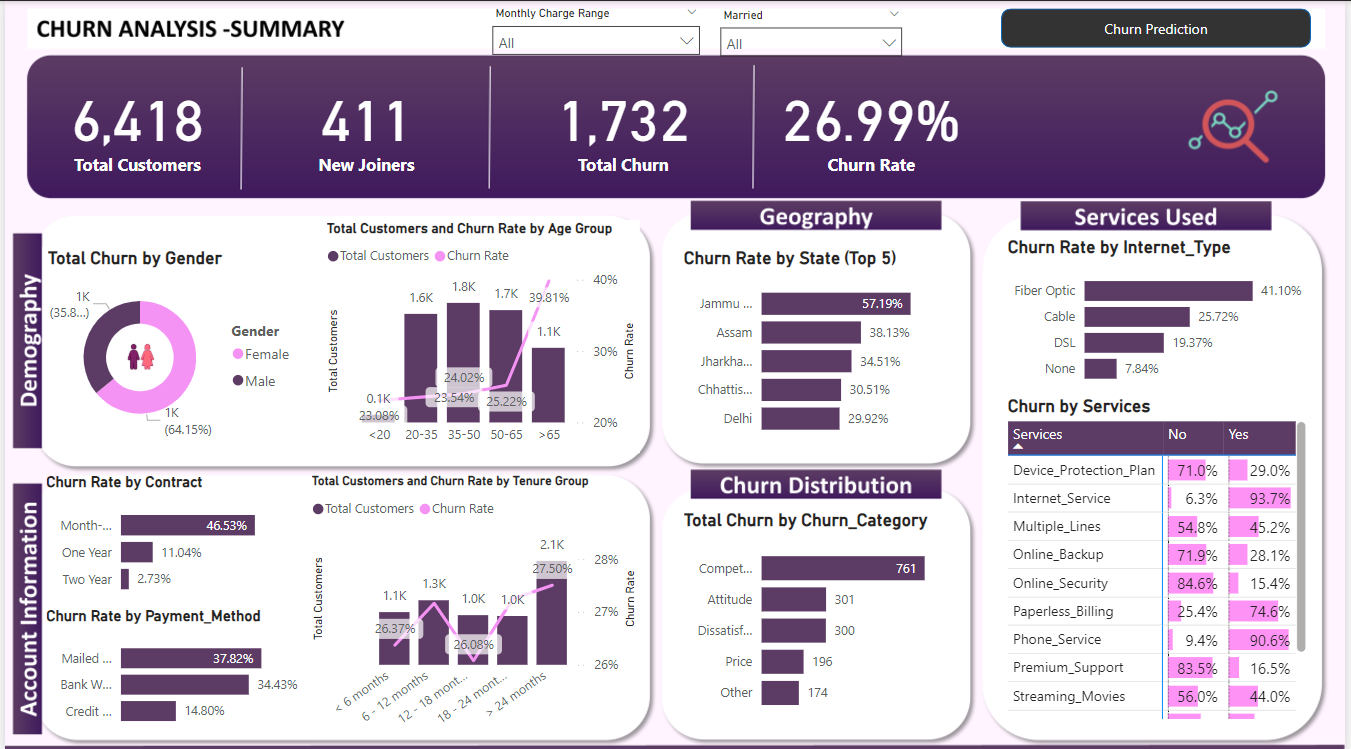

Layout of this report page (visuals, bound fields, positions):
{"tool":"powerbi","page":{"name":"Summary","canvas":[1280,720],"ordinal":0},"visuals":[{"type":"card","fields":{"Values":["#Measures.Total Customers"]},"box":[34,60.5,183.3,115.3],"z":0},{"type":"card","fields":{"Values":["#Measures.Total Churn"]},"box":[481.9,60.5,217.3,115.3],"z":1000},{"type":"card","fields":{"Values":["#Measures.New Joiners"]},"box":[243.8,60.5,202.2,115.3],"z":2000},{"type":"card","fields":{"Values":["#Measures.Churn Rate"]},"box":[721.9,60.5,209.8,115.3],"z":3000},{"type":"donutChart","fields":{"Category":["prod_Churn.Gender"],"Y":["#Measures.Total Churn"]},"box":[35.9,234.3,251.3,190.9],"z":4000},{"type":"lineClusteredColumnComboChart","fields":{"Category":["mapping_AgeGrp.Age Group"],"Y":["#Measures.Total Customers"],"Y2":["#Measures.Churn Rate"]},"box":[302.4,209.8,304.3,223],"z":5000},{"type":"clusteredBarChart","fields":{"Category":["prod_Churn.Payment_Method"],"Y":["#Measures.Churn Rate"]},"box":[34,578.3,253.2,124.7],"z":6000},{"type":"clusteredBarChart","fields":{"Category":["prod_Churn.Contract"],"Y":["#Measures.Churn Rate"]},"box":[34,451.7,253.2,126.6],"z":7000},{"type":"lineClusteredColumnComboChart","fields":{"Category":["mapping_TenureGrp.Tenure Group"],"Y":["#Measures.Total Customers"],"Y2":["#Measures.Churn Rate"]},"box":[287.2,451.7,319.4,251.3],"z":8000},{"type":"clusteredBarChart","title":"Churn Rate by State (Top 5)","fields":{"Category":["prod_Churn.State"],"Y":["#Measures.Churn Rate"]},"box":[642.5,234.3,264.6,190.9],"z":9000},{"type":"clusteredBarChart","fields":{"Category":["prod_Churn.Churn_Category"],"Y":["#Measures.Total Churn"]},"box":[642.5,485.7,264.6,204.1],"z":10000},{"type":"clusteredBarChart","fields":{"Category":["prod_Churn.Internet_Type"],"Y":["#Measures.Churn Rate"]},"box":[952.4,224.9,294.8,151.2],"z":11000},{"type":"pivotTable","title":"Churn by Services","fields":{"Rows":["prod_Services.Services"],"Columns":["prod_Services.ServiceOption"],"Values":["Sum(prod_Services.Churn_Status)"]},"box":[952.4,376.1,294.8,313.7],"z":12000},{"type":"slicer","fields":{"Values":["prod_Churn.Monthly Charge Status"]},"box":[455.4,0,218,60.2],"z":13000},{"type":"slicer","fields":{"Values":["prod_Churn.Married"]},"box":[673.4,1.6,193.6,60.2],"z":14000},{"type":"image","box":[92.2,315.6,75.6,48.9],"z":15000},{"type":"shape","box":[951.5,6.5,296,37.4],"z":16000}]}

Visuals, with their boxes in screenshot pixels (x1, y1, x2, y2), scaled from the page's 1280x720 canvas onto the 1351x749 screenshot:
card - #Measures.Total Customers: BBox(36, 63, 229, 183)
card - #Measures.Total Churn: BBox(509, 63, 738, 183)
card - #Measures.New Joiners: BBox(257, 63, 471, 183)
card - #Measures.Churn Rate: BBox(762, 63, 983, 183)
donutChart - prod_Churn.Gender x #Measures.Total Churn: BBox(38, 244, 303, 442)
lineClusteredColumnComboChart - mapping_AgeGrp.Age Group x #Measures.Total Customers: BBox(319, 218, 640, 450)
clusteredBarChart - prod_Churn.Payment_Method x #Measures.Churn Rate: BBox(36, 602, 303, 731)
clusteredBarChart - prod_Churn.Contract x #Measures.Churn Rate: BBox(36, 470, 303, 602)
lineClusteredColumnComboChart - mapping_TenureGrp.Tenure Group x #Measures.Total Customers: BBox(303, 470, 640, 731)
"Churn Rate by State (Top 5)" clusteredBarChart: BBox(678, 244, 957, 442)
clusteredBarChart - prod_Churn.Churn_Category x #Measures.Total Churn: BBox(678, 505, 957, 718)
clusteredBarChart - prod_Churn.Internet_Type x #Measures.Churn Rate: BBox(1005, 234, 1316, 391)
"Churn by Services" pivotTable: BBox(1005, 391, 1316, 718)
slicer - prod_Churn.Monthly Charge Status: BBox(481, 0, 711, 63)
slicer - prod_Churn.Married: BBox(711, 2, 915, 64)
image: BBox(97, 328, 177, 379)
shape: BBox(1004, 7, 1317, 46)
